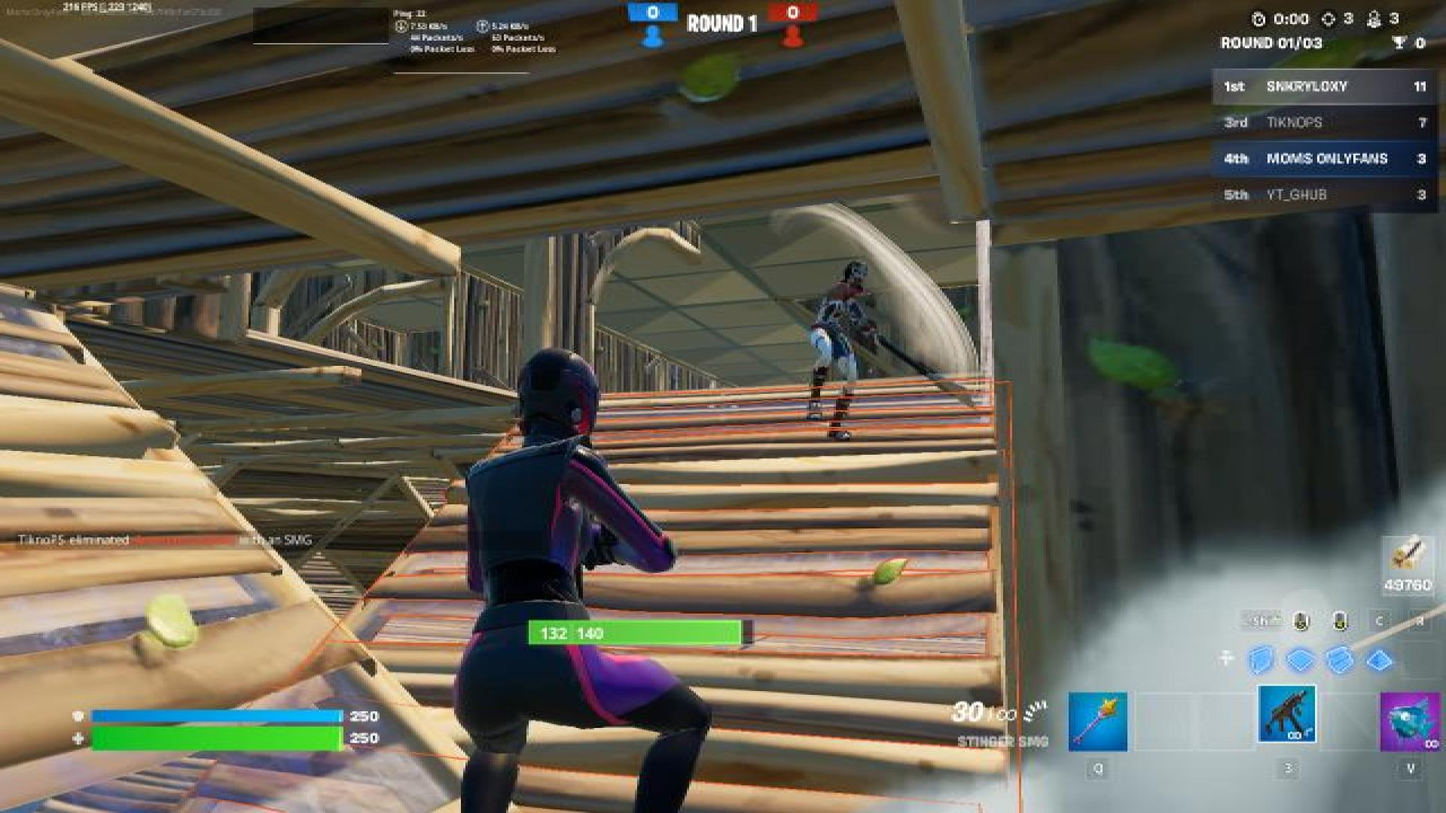player: (403, 333, 719, 813), (804, 256, 883, 441)
